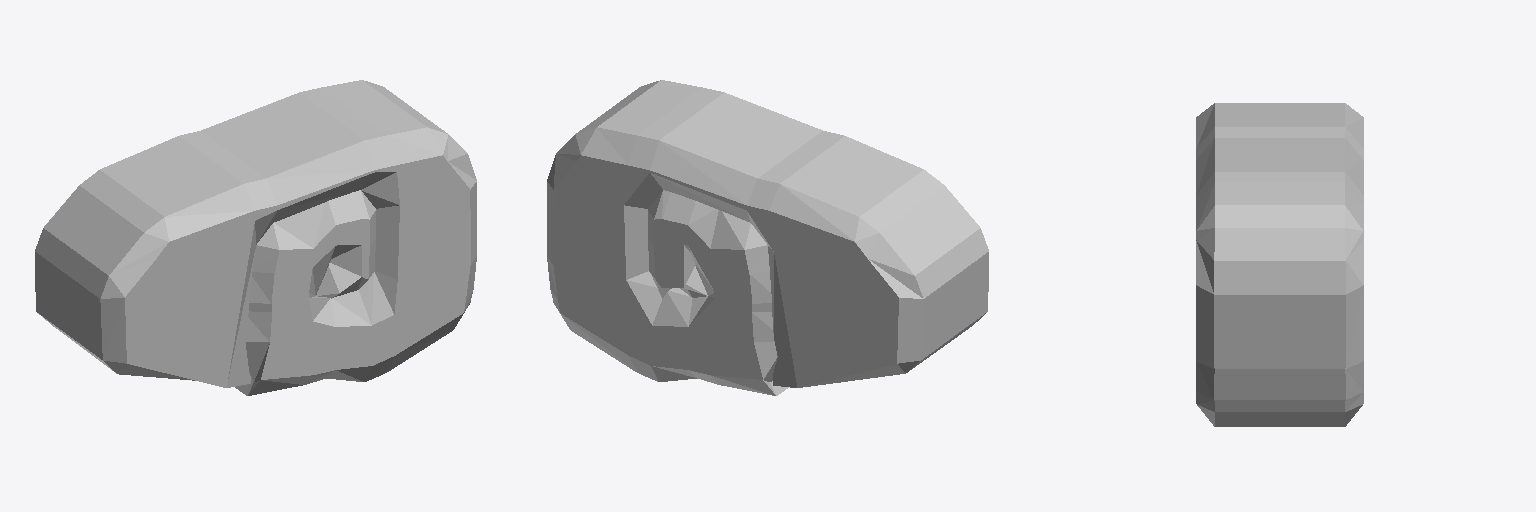
The model's file is TreeBranch_01.obj.
3 renders of one model, left to right at view 1: azimuth 30°, elevation 25°; view 2: azimuth 150°, elevation 25°; view 3: azimuth 270°, elevation 25°, orthographic.
Visible parts, largest first — view 1: Branch1; view 2: Branch1; view 3: Branch1.
Part boxes in pixels (left/top/right/bottom): Branch1: left=35, top=80, right=476, bottom=395; Branch1: left=547, top=80, right=988, bottom=395; Branch1: left=1196, top=103, right=1363, bottom=426.
Bounding box in the file's own units: 11.05 × 6.78 × 4.24.